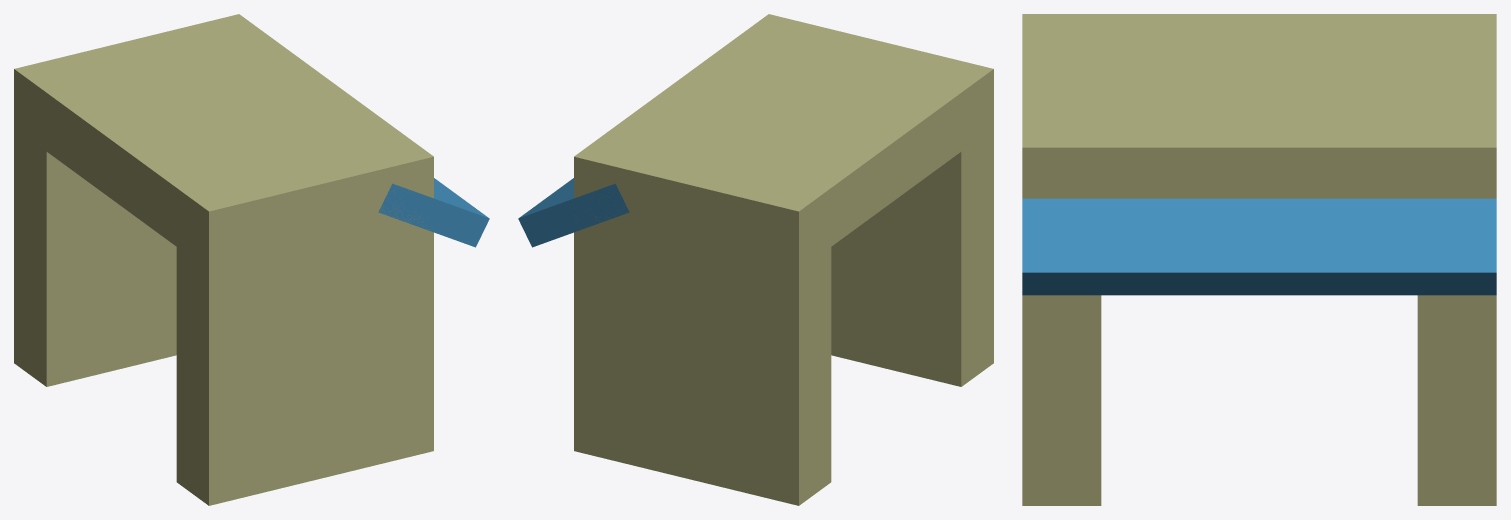
File: ShopHouse.fbx
3 views of the same model, side by side, from view 1: azimuth 30°, elevation 25°; view 2: azimuth 150°, elevation 25°; view 3: azimuth 270°, elevation 25° (orthographic). The views are drawn at different scales.
Parts seen in each view (by area): view 1: StallHouse__5_, StallHouse__4_, StallHouse__6_, StallShelter__71_; view 2: StallHouse__5_, StallHouse__6_, StallHouse__4_, StallShelter__71_; view 3: StallHouse__5_, StallShelter__71_, StallHouse__6_, StallHouse__4_.
Boxes of the visible parts, bbox=[...] form: StallHouse__5_: bbox=[14, 14, 433, 270]; StallHouse__4_: bbox=[176, 221, 433, 505]; StallHouse__6_: bbox=[14, 128, 176, 386]; StallShelter__71_: bbox=[378, 178, 489, 247]; StallHouse__5_: bbox=[574, 14, 993, 270]; StallHouse__6_: bbox=[574, 222, 831, 505]; StallHouse__4_: bbox=[831, 128, 993, 386]; StallShelter__71_: bbox=[518, 178, 629, 247]; StallHouse__5_: bbox=[1022, 14, 1496, 198]; StallShelter__71_: bbox=[1022, 198, 1496, 295]; StallHouse__6_: bbox=[1417, 295, 1496, 505]; StallHouse__4_: bbox=[1022, 295, 1101, 505].
Size of the model in its own units: 250 by 250 by 300.
